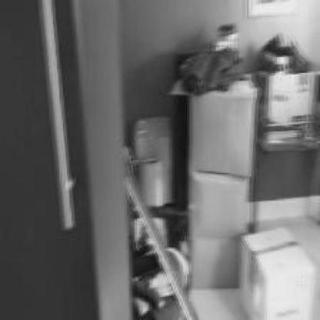other: (128, 9, 186, 101)
